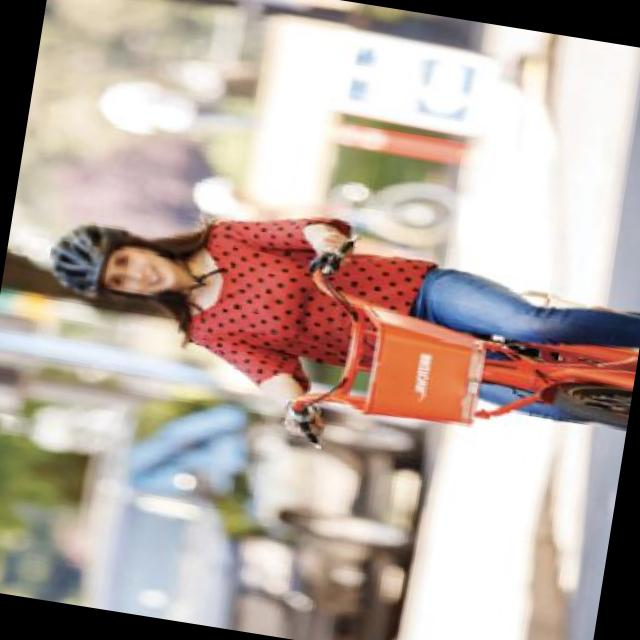With Helmet: (43, 212, 201, 322)
